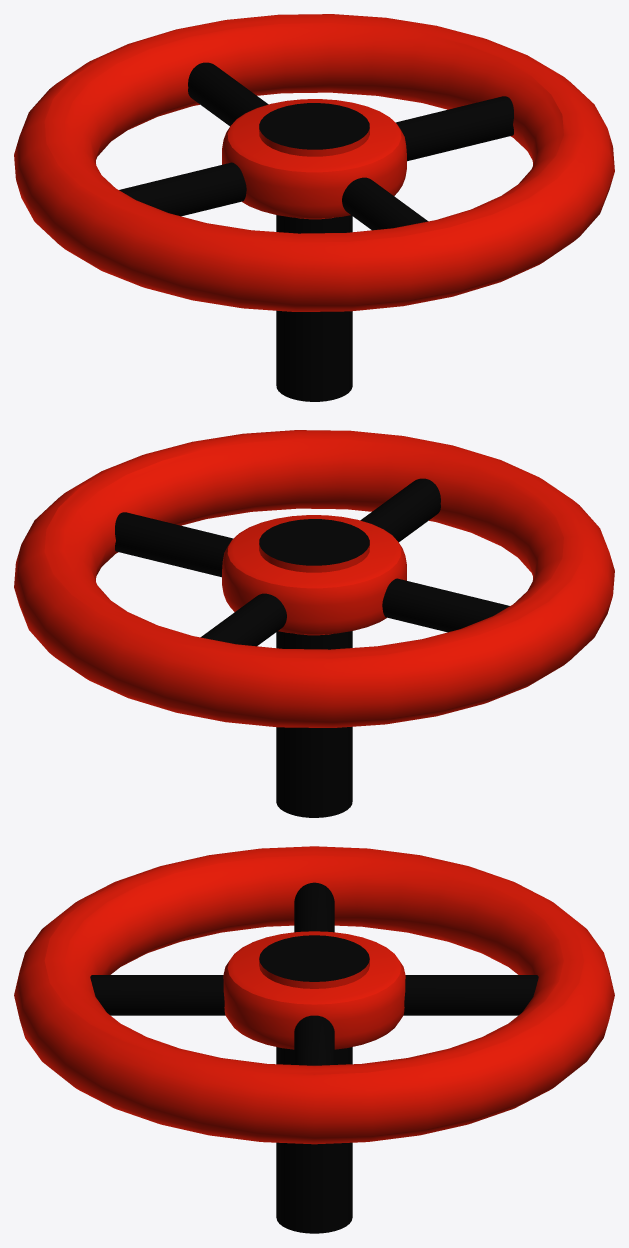
File: WheelPipe.fbx
The picture shows the model from 3 angles, top to bottom: view 1: azimuth 30°, elevation 25°; view 2: azimuth 150°, elevation 25°; view 3: azimuth 270°, elevation 25°; orthographic projection.
Visible parts, largest first — view 1: WheelPipe; view 2: WheelPipe; view 3: WheelPipe.
Part boxes in pixels (box(x1,y1,x2,y2)): WheelPipe: box(14, 14, 614, 401); WheelPipe: box(14, 430, 614, 817); WheelPipe: box(14, 846, 614, 1233).
Bounding box in the file's own units: 109 × 51.7 × 109.
